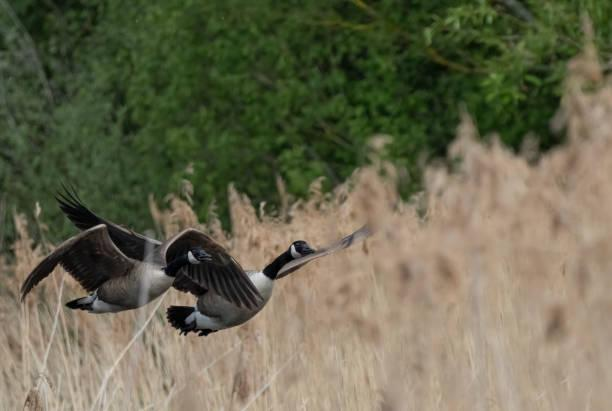Canadian-Goose: (26, 220, 207, 323), (198, 232, 361, 334)
